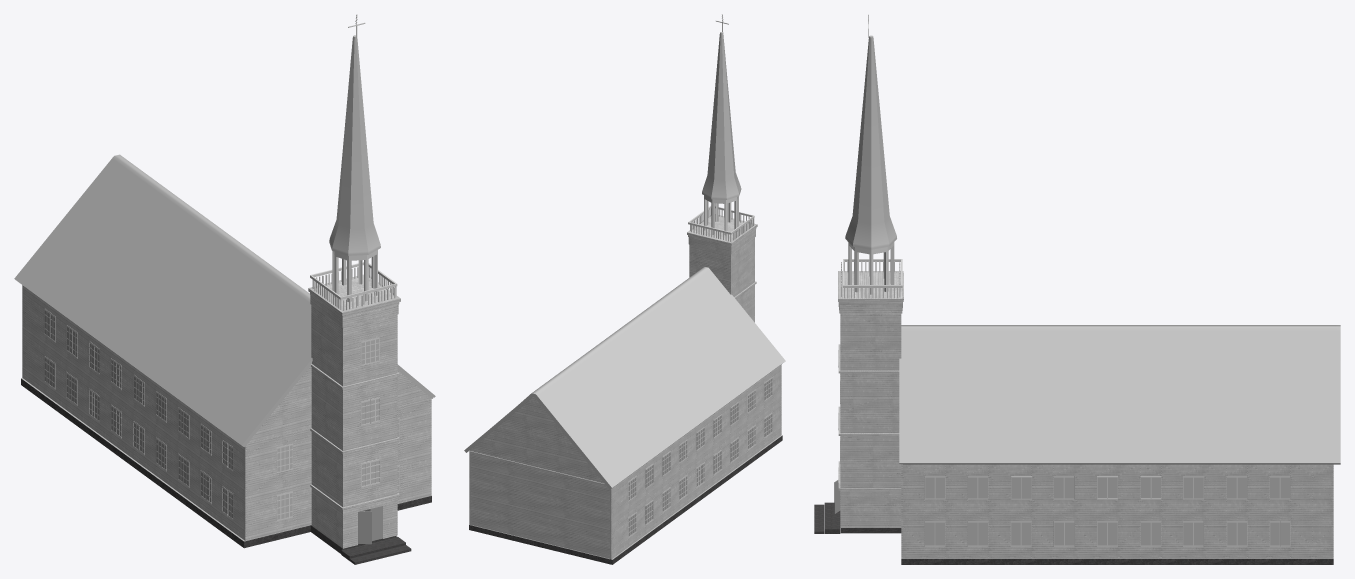
File: church3.fbx
The picture shows the model from 3 angles, left to right: view 1: azimuth 30°, elevation 25°; view 2: azimuth 150°, elevation 25°; view 3: azimuth 270°, elevation 25°; orthographic projection. The views are drawn at different scales.
Parts seen in each view (by area): view 1: roof2, church_frame, tower, pCylinder2, roofp1, floor1, pPipe1, stair2, stable_bars9; view 2: roof2, church_frame, floor2, roofp, tower, pCylinder2, floor1, pPipe1; view 3: roof2, church_frame, tower, pCylinder2, floor1, pPipe1.
Part boxes in pixels (left/top/right/bottom): roof2: left=14, top=154, right=435, bottom=447; church_frame: left=22, top=285, right=431, bottom=540; tower: left=308, top=274, right=400, bottom=548; pCylinder2: left=329, top=35, right=380, bottom=255; roofp1: left=248, top=366, right=431, bottom=443; floor1: left=21, top=378, right=431, bottom=548; pPipe1: left=332, top=250, right=377, bottom=302; stair2: left=341, top=536, right=405, bottom=560; stable_bars9: left=310, top=262, right=397, bottom=299; roof2: left=464, top=267, right=785, bottom=489; church_frame: left=469, top=364, right=781, bottom=559; floor2: left=470, top=451, right=609, bottom=558; roofp: left=470, top=396, right=603, bottom=483; tower: left=687, top=214, right=757, bottom=322; pCylinder2: left=702, top=32, right=741, bottom=199; floor1: left=469, top=435, right=782, bottom=564; pPipe1: left=704, top=195, right=738, bottom=235; roof2: left=899, top=325, right=1340, bottom=464; church_frame: left=901, top=464, right=1333, bottom=557; tower: left=838, top=271, right=903, bottom=527; pCylinder2: left=845, top=35, right=896, bottom=249; floor1: left=901, top=558, right=1333, bottom=564; pPipe1: left=848, top=242, right=894, bottom=294.
Bounding box in the file's own units: 61.64 × 159 × 149.
